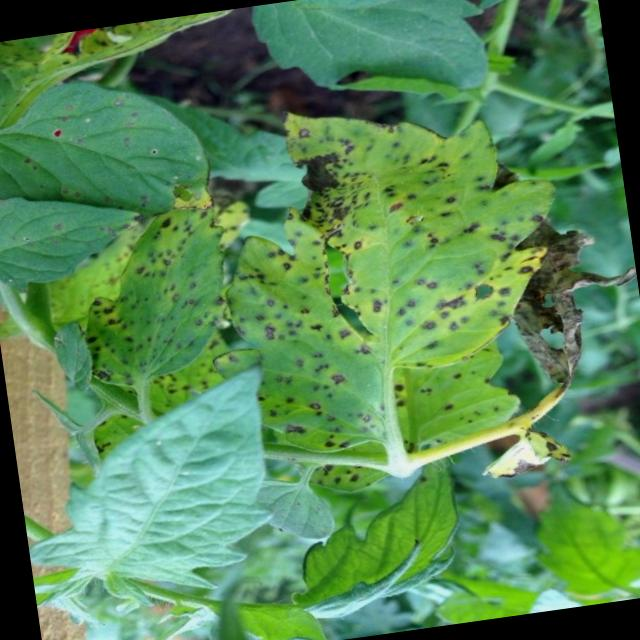leaf_spot: (228, 117, 553, 461), (88, 206, 224, 391)
